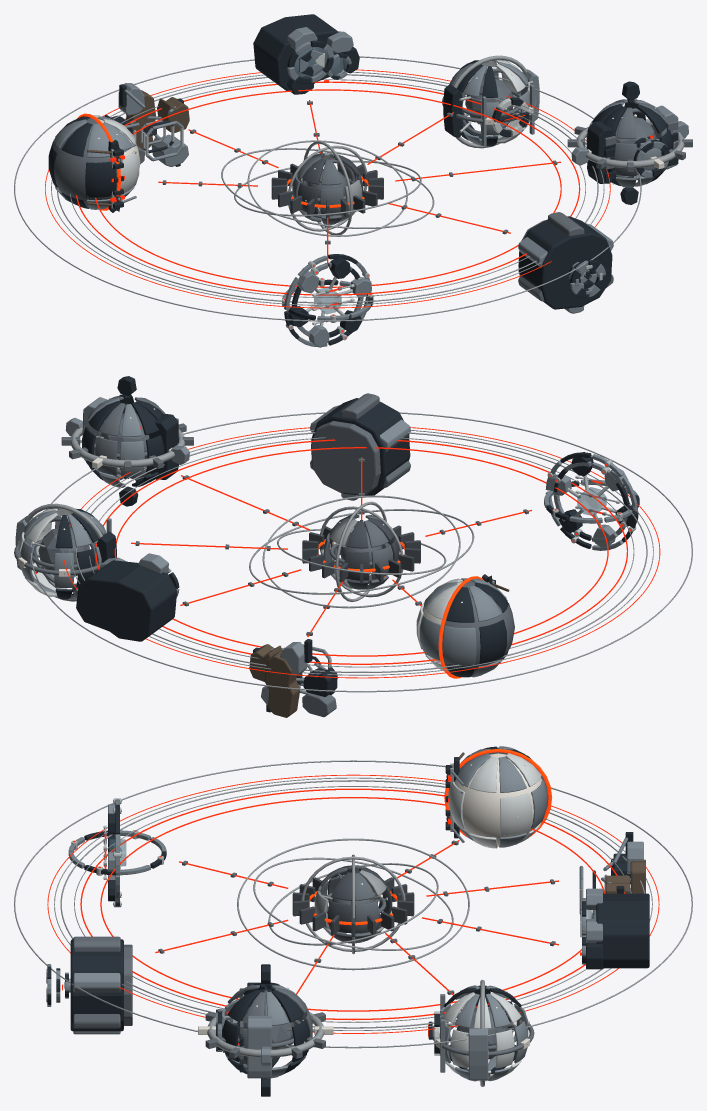
Rendered from orbit-system-balanced.glb.
3 views of the same model, one above another, from view 1: azimuth 30°, elevation 25°; view 2: azimuth 150°, elevation 25°; view 3: azimuth 270°, elevation 25° (orthographic). The views are drawn at different scales.
Visible parts, largest first — view 1: Protect_MID_SolidCitadelCore, Experience_MID_DeepOpticalBody, IndustrialOrbit_05, Transform_MID_Legacy, IndustrialOrbit_07, IndustrialOrbit_01, IndustrialOrbit_03, IndustrialOrbit_04, IndustrialOrbit_06, IndustrialOrbit_02, Transform_MID_Legacy_ArmourTile_01_03, ReactorServiceHalo_2 (+18 smaller); view 2: Experience_MID_DeepOpticalBody, Protect_MID_RearPressureHull, IndustrialOrbit_05, Protect_MID_SolidCitadelCore, IndustrialOrbit_03, IndustrialOrbit_07, IndustrialOrbit_01, Build_MID_Core, IndustrialOrbit_04, IndustrialOrbit_06, IndustrialOrbit_02, Transform_MID_Legacy (+26 smaller); view 3: Experience_MID_DeepOpticalBody, Protect_MID_SolidCitadelCore, IndustrialOrbit_05, Transform_MID_Future, IndustrialOrbit_01, IndustrialOrbit_03, IndustrialOrbit_07, IndustrialOrbit_04, ReactorServiceHalo_2, IndustrialOrbit_06, Deploy_MID_RackCliff_01, IndustrialOrbit_02 (+20 smaller).
Part boxes in pixels (x1,y1,x2,y2): Protect_MID_SolidCitadelCore: (518,216,612,309); Experience_MID_DeepOpticalBody: (253,14,342,90); IndustrialOrbit_05: (14,56,641,321); Transform_MID_Legacy: (53,118,117,207); IndustrialOrbit_07: (76,81,580,295); IndustrialOrbit_01: (95,89,561,287); IndustrialOrbit_03: (57,74,598,303); IndustrialOrbit_04: (45,69,610,308); IndustrialOrbit_06: (51,71,604,305); IndustrialOrbit_02: (70,79,585,297); Transform_MID_Legacy_ArmourTile_01_03: (85,161,116,197); ReactorServiceHalo_2: (221,148,434,228); Experience_MID_DeepOpticalBody: (76,560,176,641); Protect_MID_RearPressureHull: (311,421,380,494); IndustrialOrbit_05: (30,412,692,692); Protect_MID_SolidCitadelCore: (311,398,410,495); IndustrialOrbit_03: (75,432,647,672); IndustrialOrbit_07: (95,439,627,664); IndustrialOrbit_01: (114,447,608,656); Build_MID_Core: (264,651,299,717); IndustrialOrbit_04: (63,427,660,678); IndustrialOrbit_06: (69,429,653,675); IndustrialOrbit_02: (89,437,634,667); Transform_MID_Legacy: (442,580,514,675); Experience_MID_DeepOpticalBody: (596,893,649,968); Protect_MID_SolidCitadelCore: (70,939,123,1031); IndustrialOrbit_05: (14,760,692,1048); Transform_MID_Future: (454,753,542,846); IndustrialOrbit_01: (100,797,605,1011); IndustrialOrbit_03: (60,780,645,1028); IndustrialOrbit_07: (80,788,625,1020); IndustrialOrbit_04: (47,774,659,1033); ReactorServiceHalo_2: (237,838,469,970); IndustrialOrbit_06: (54,777,652,1030); Deploy_MID_RackCliff_01: (247,1015,271,1078); IndustrialOrbit_02: (74,786,631,1022).
Size of the model in its own units: 55.54 by 11.75 by 51.11.
